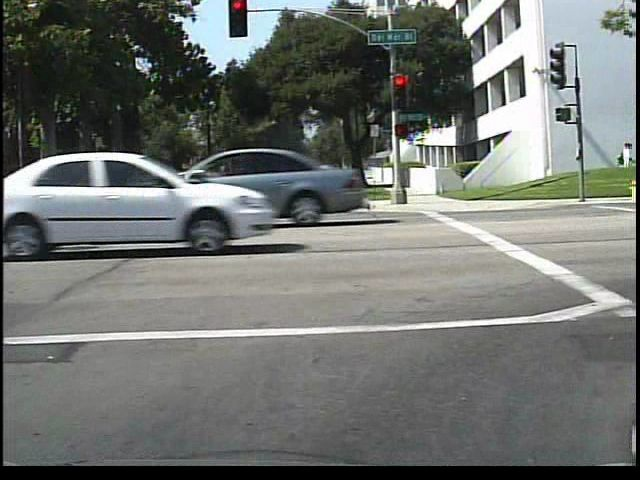person: (611, 136, 635, 196)
